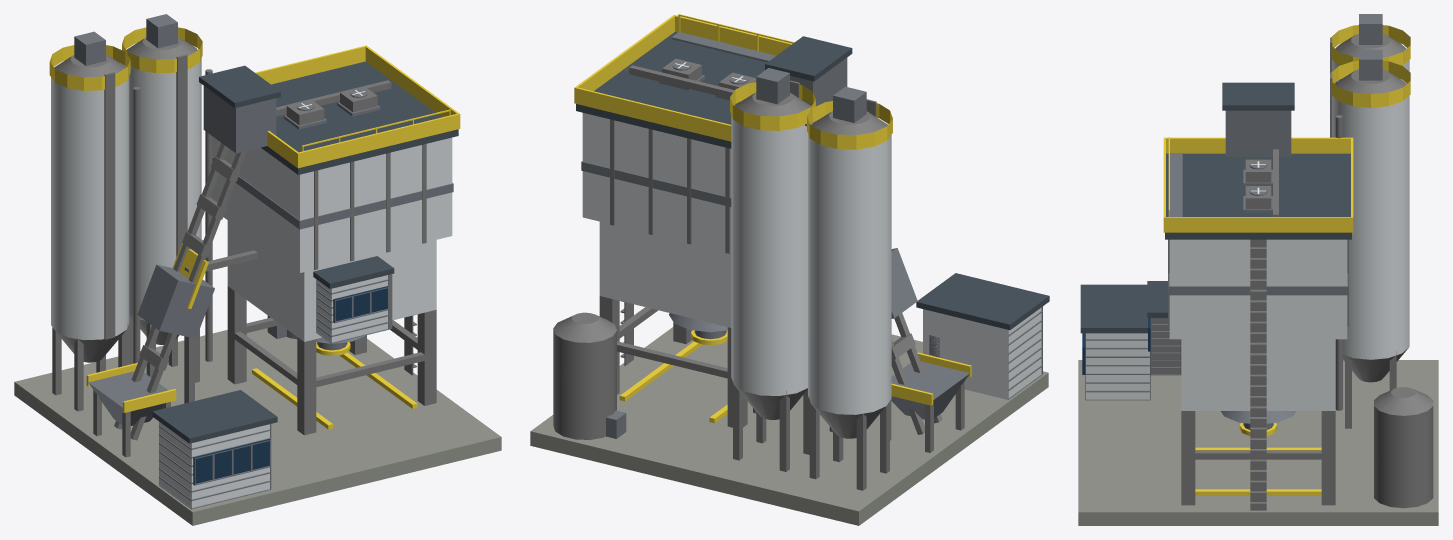
The model's file is mashup-main-mid-prebuilt_close.fbx.
3 views of the same model, side by side, from view 1: azimuth 30°, elevation 25°; view 2: azimuth 150°, elevation 25°; view 3: azimuth 270°, elevation 25° (orthographic). The views are drawn at different scales.
Visible parts, largest first — view 1: a1025.Main.001; view 2: a1025.Main.001; view 3: a1025.Main.001.
Boxes of the visible parts, left/top/right/bottom form: a1025.Main.001: left=14, top=14, right=501, bottom=525; a1025.Main.001: left=530, top=14, right=1049, bottom=525; a1025.Main.001: left=1078, top=14, right=1438, bottom=525.
Bounding box in the file's own units: 15.55 × 17.7 × 15.4.
